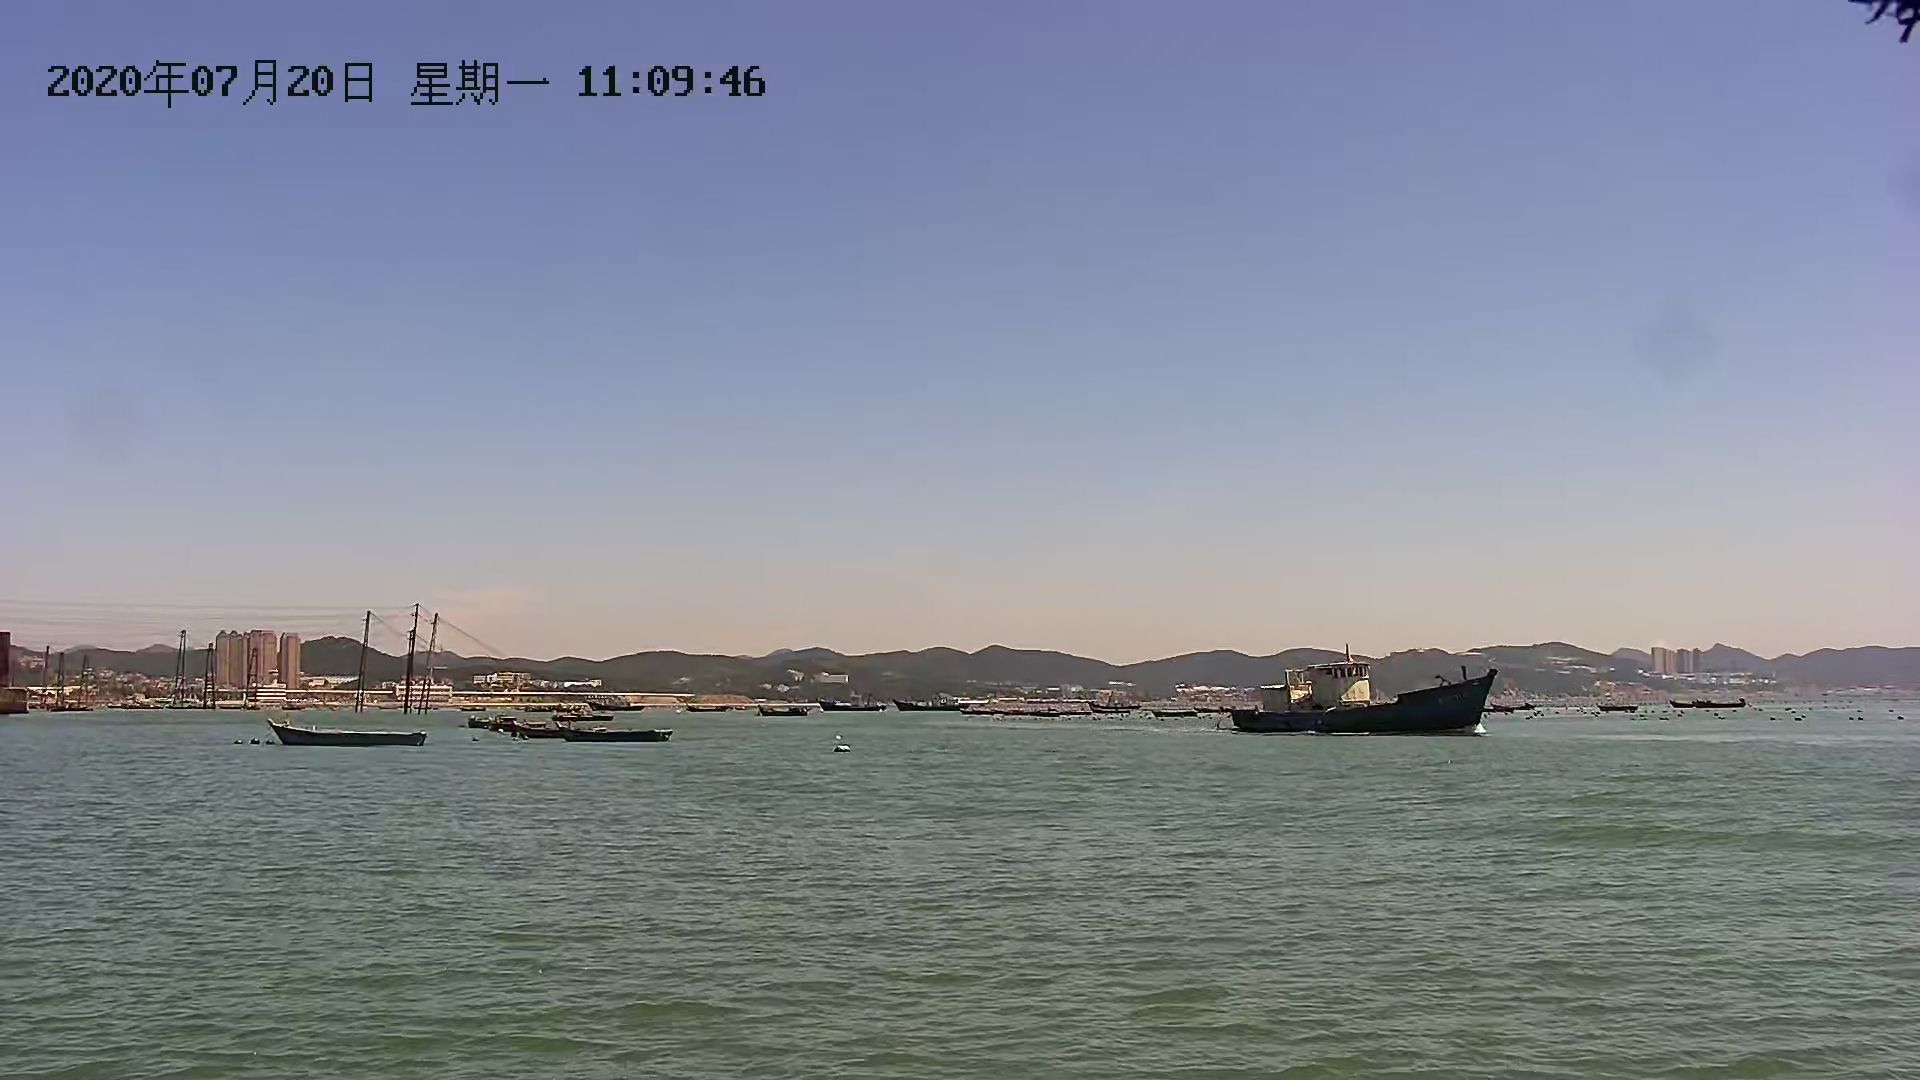boat: (272, 717, 433, 753), (475, 709, 604, 735), (553, 731, 673, 741)
ship: (1230, 658, 1502, 744)
